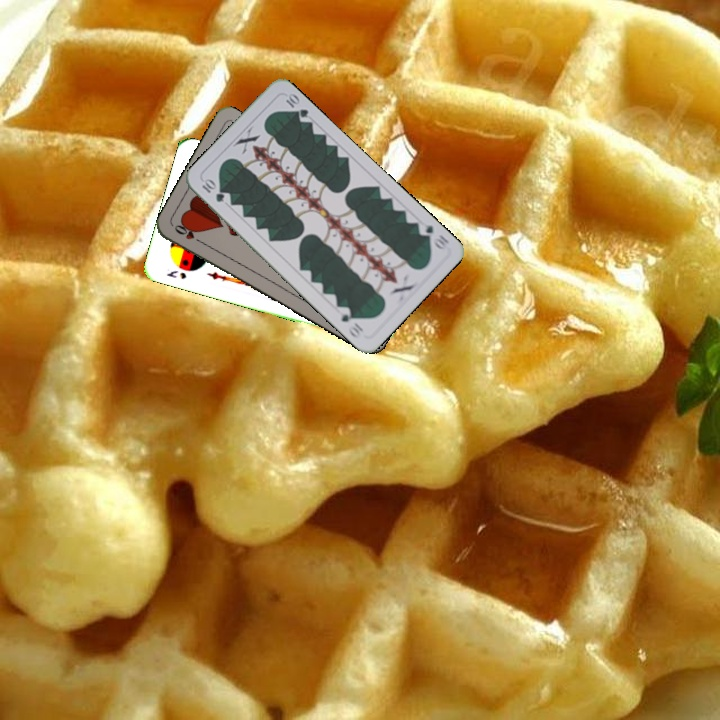G10: (414, 218, 452, 253), (198, 175, 227, 205)
HO: (170, 221, 207, 247)
SK: (162, 266, 189, 282)
